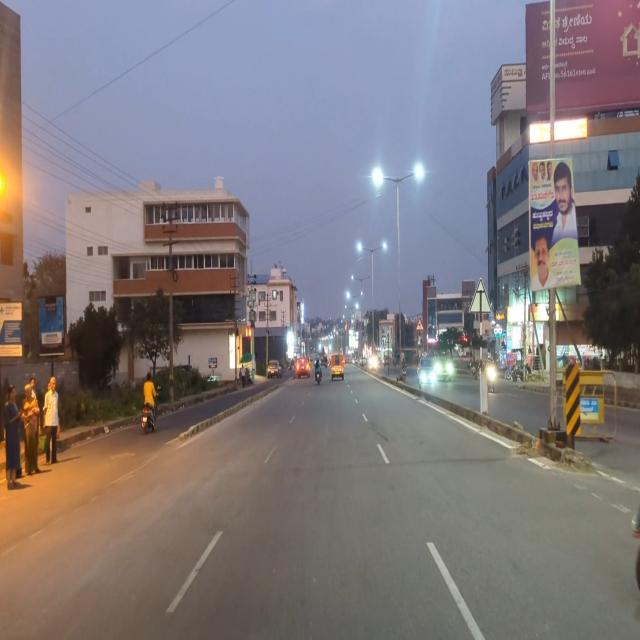bien_cam: (415, 316, 424, 332)
